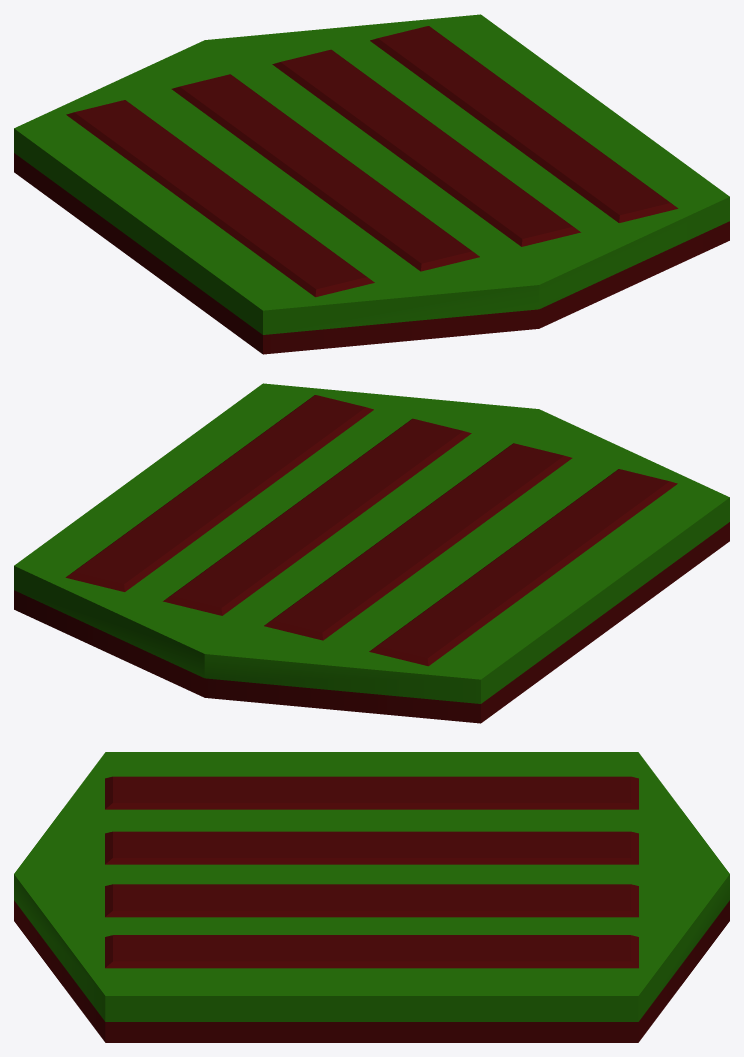
Rendered from Filed_Tiles.fbx.
3 views of the same model, one above another, from view 1: azimuth 30°, elevation 25°; view 2: azimuth 150°, elevation 25°; view 3: azimuth 270°, elevation 25° (orthographic). The views are drawn at different scales.
Parts seen in each view (by area): view 1: pCube48; view 2: pCube48; view 3: pCube48.
Boxes of the visible parts, x1,y1,x2,y2 form: pCube48: (14,14,729,354); pCube48: (14,383,729,723); pCube48: (14,752,729,1042).
Size of the model in its own units: 15.95 by 1.59 by 19.79.
